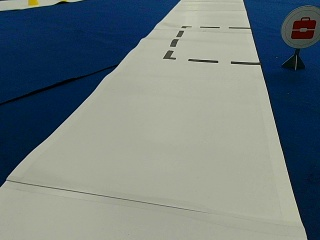company: (281, 4, 319, 47)
